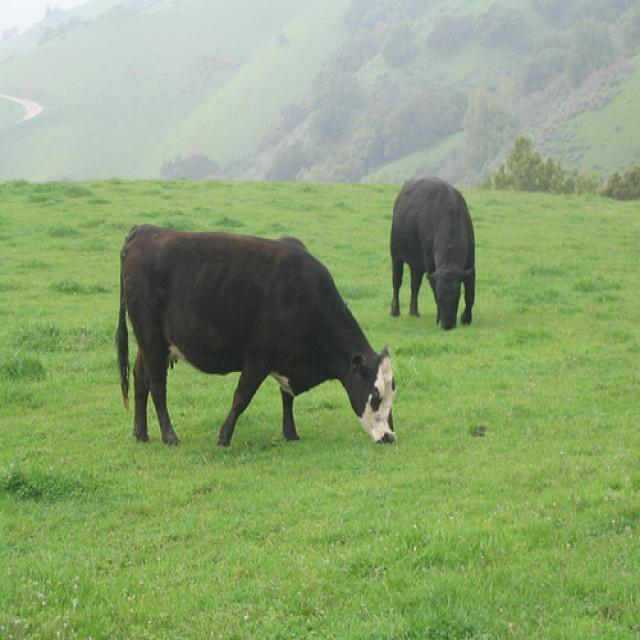cow: (114, 222, 395, 444), (388, 176, 477, 331)
